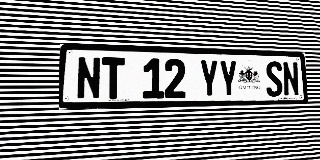1: (143, 58, 164, 99)
2: (165, 59, 186, 98)
N: (76, 56, 101, 100), (282, 62, 300, 97)
S: (265, 61, 283, 97)
T: (102, 57, 125, 99)
Y: (199, 59, 219, 98), (219, 60, 238, 98)
